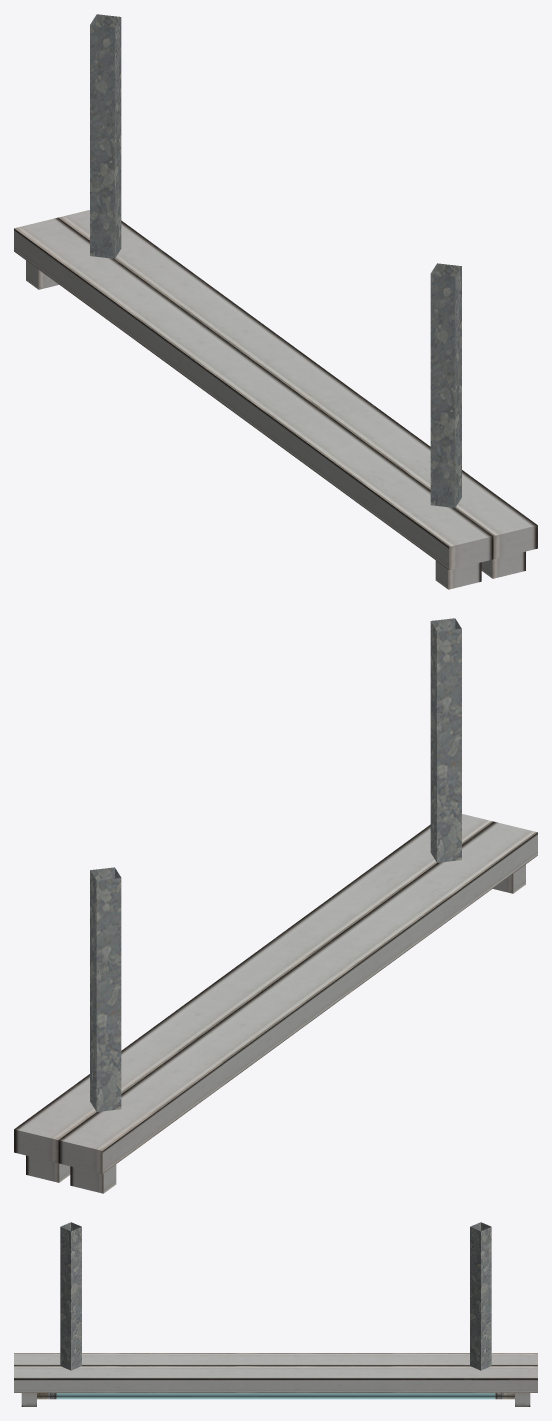
The model's file is Light-FDouble_Hanging.fbx.
3 renders of one model, top to bottom at view 1: azimuth 30°, elevation 25°; view 2: azimuth 150°, elevation 25°; view 3: azimuth 270°, elevation 25°, orthographic. The views are drawn at different scales.
Visible parts, largest first — view 1: Light-FDouble_Hanging; view 2: Light-FDouble_Hanging; view 3: Light-FDouble_Hanging.
Boxes of the visible parts, x1,y1,x2,y2 form: Light-FDouble_Hanging: (14, 14, 537, 589); Light-FDouble_Hanging: (14, 618, 537, 1193); Light-FDouble_Hanging: (14, 1222, 537, 1406).
Size of the model in its own units: 20 by 60.38 by 170.
